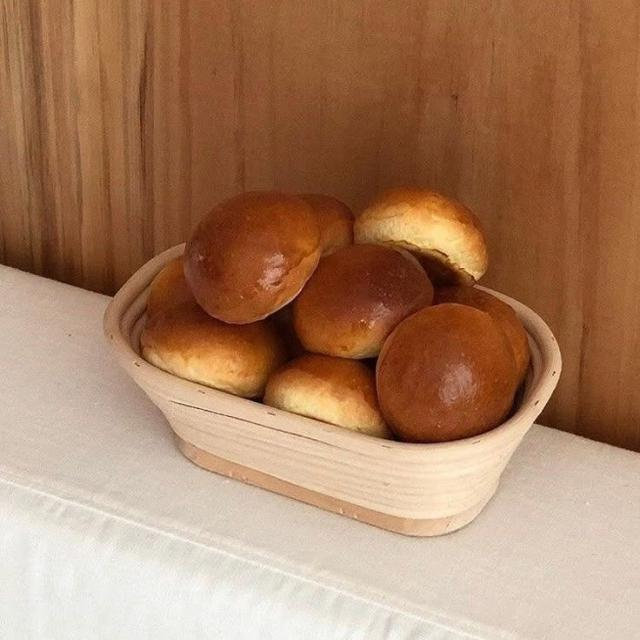bread: (141, 260, 285, 397), (377, 304, 517, 442), (185, 192, 320, 323), (294, 245, 433, 358), (354, 188, 487, 284), (264, 354, 391, 438), (434, 286, 530, 381), (300, 194, 353, 254), (147, 256, 193, 318), (273, 304, 305, 357)
